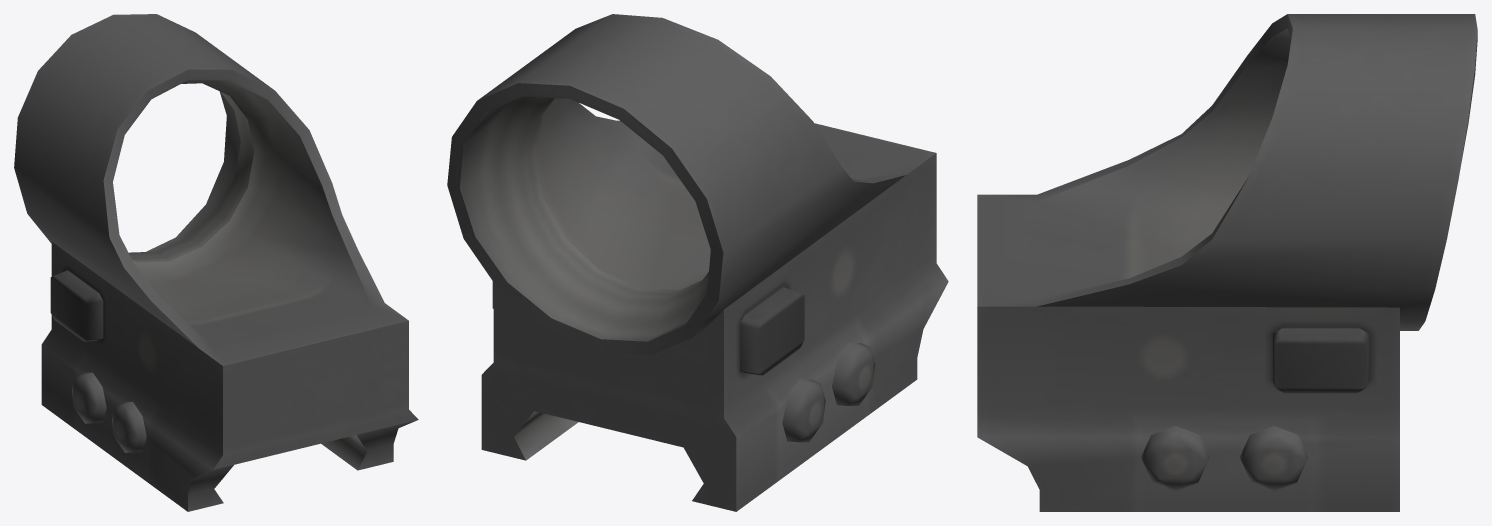
File: IG_Acc_Scope_All_RedDot_1.fbx
3 views of the same model, side by side, from view 1: azimuth 30°, elevation 25°; view 2: azimuth 150°, elevation 25°; view 3: azimuth 270°, elevation 25° (orthographic). The views are drawn at different scales.
Parts seen in each view (by area): view 1: Scope_All_RedDot_1; view 2: Scope_All_RedDot_1; view 3: Scope_All_RedDot_1.
Part boxes in pixels (bbox=[...]): Scope_All_RedDot_1: bbox=[14, 14, 418, 511]; Scope_All_RedDot_1: bbox=[447, 14, 948, 511]; Scope_All_RedDot_1: bbox=[977, 14, 1477, 511].
Bounding box in the file's own units: 0.0884 × 0.1249 × 0.1344.
